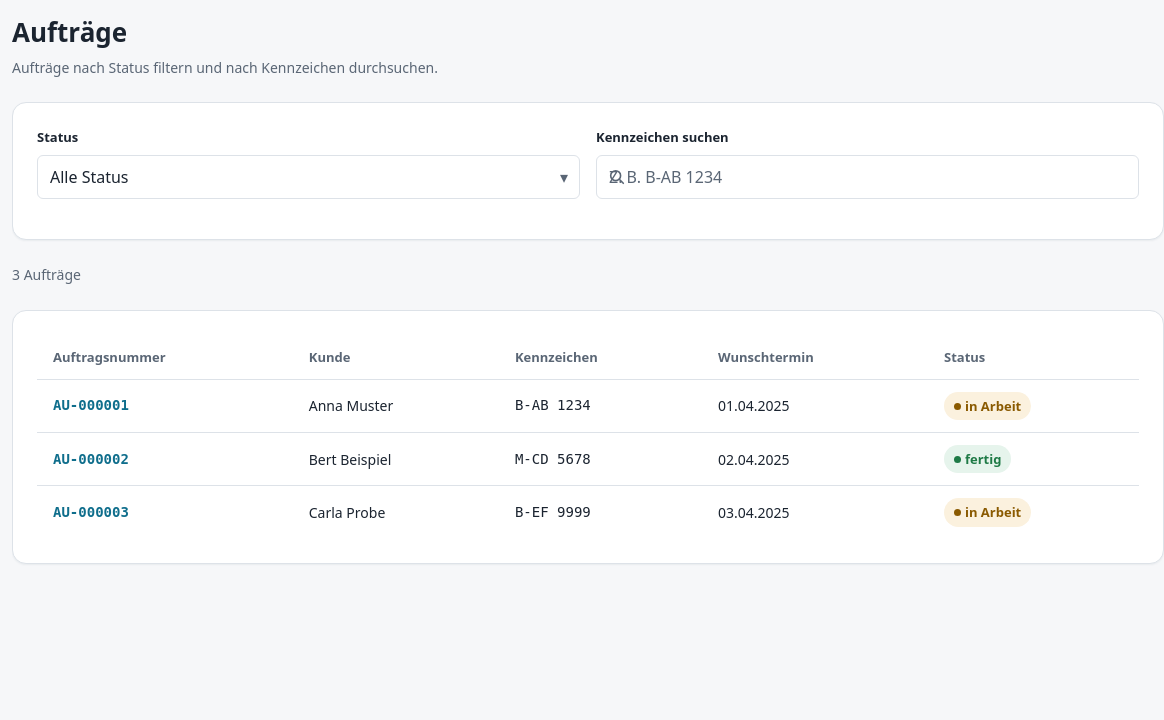
Scenario: WorkshopOrdersPage › keeps only matching rows after selecting the status 'In Arbeit'
expect the link "AU-000001" is shown: met, box [53,397,129,413]
Select "In Arbeit" in the dropdown labelled "Status" at (308, 177), box [37,155,580,199]
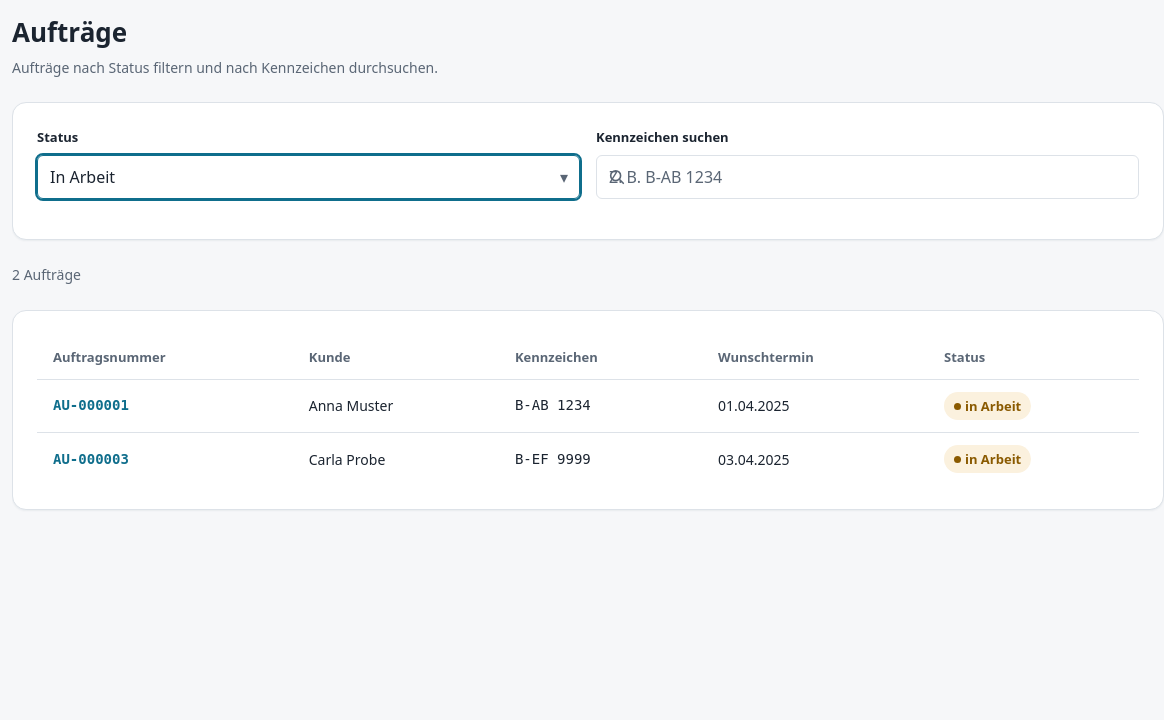
expect the link "AU-000001" is shown: met, box [53,397,129,413]
expect the link "AU-000002" is gone: met
